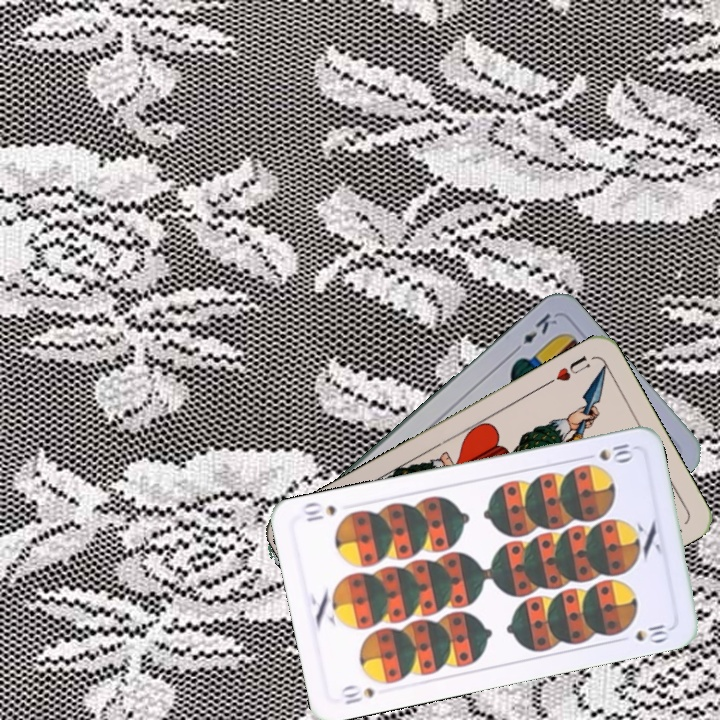EK: (509, 309, 560, 356)
HU: (541, 351, 593, 389)
S10: (578, 439, 637, 465), (338, 681, 377, 707)
